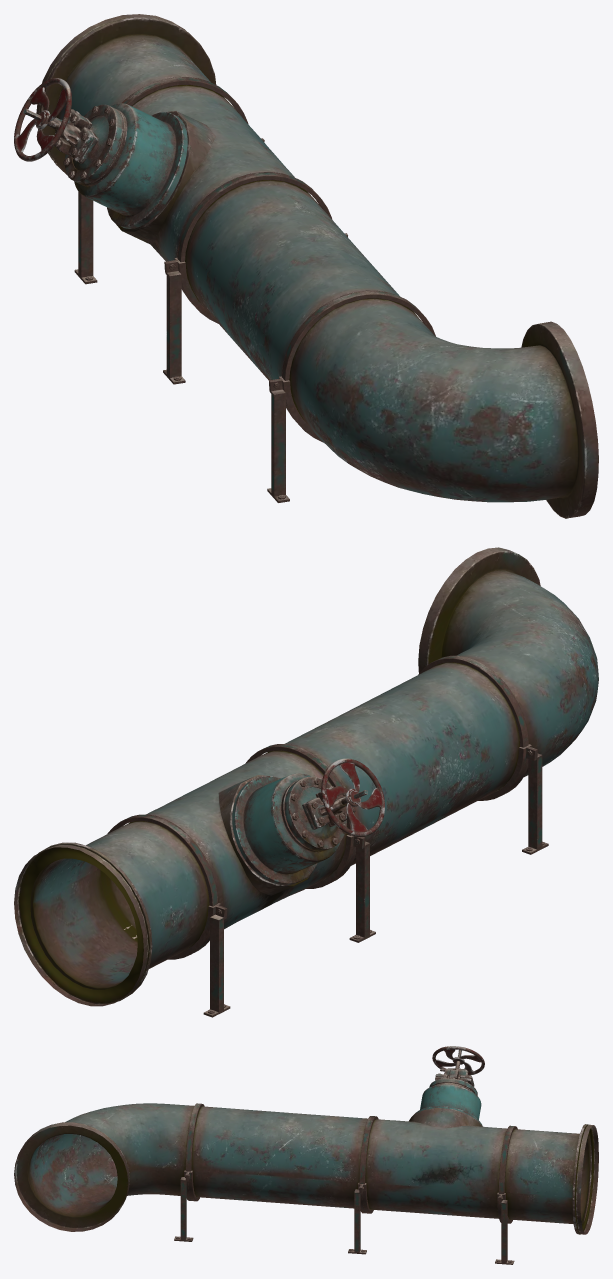
The model's file is gitpipe-transformed.glb.
The picture shows the model from 3 angles, top to bottom: view 1: azimuth 30°, elevation 25°; view 2: azimuth 150°, elevation 25°; view 3: azimuth 270°, elevation 25°; orthographic projection. The views are drawn at different scales.
Visible parts, largest first — view 1: pipeline_geo, pipeJoint_geo, brace_geo, valve_geo; view 2: pipeline_geo, brace_geo, pipeJoint_geo, valve_geo; view 3: pipeline_geo, brace_geo, pipeJoint_geo, valve_geo.
Boxes of the visible parts, x1,y1,x2,y2 form: pipeline_geo: [36, 14, 598, 518]; pipeJoint_geo: [53, 103, 187, 228]; brace_geo: [74, 77, 435, 502]; valve_geo: [14, 78, 115, 179]; pipeline_geo: [14, 547, 598, 1006]; brace_geo: [107, 655, 548, 1017]; pipeJoint_geo: [232, 773, 355, 885]; valve_geo: [291, 758, 384, 847]; pipeline_geo: [14, 1103, 598, 1234]; brace_geo: [174, 1103, 517, 1264]; pipeJoint_geo: [416, 1068, 482, 1125]; valve_geo: [432, 1046, 484, 1083].
Bounding box in the file's own units: 0.6626 × 0.5471 × 1.93.
Materials: 4 (4 with a texture image).
